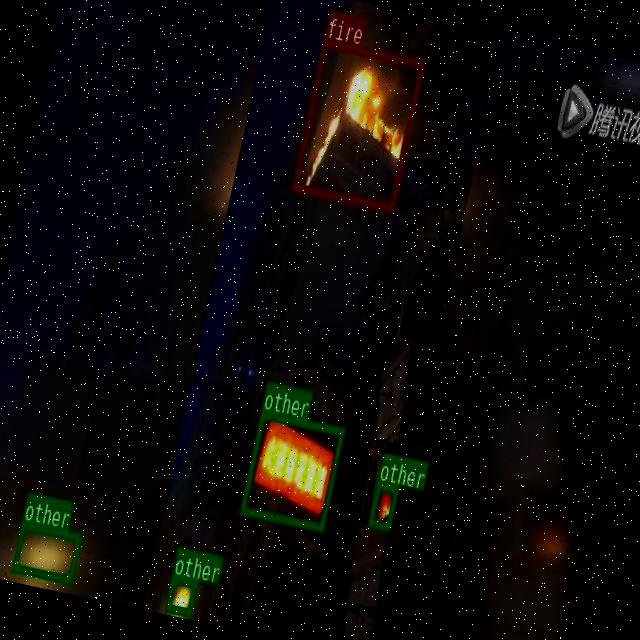fire: (290, 38, 424, 210)
